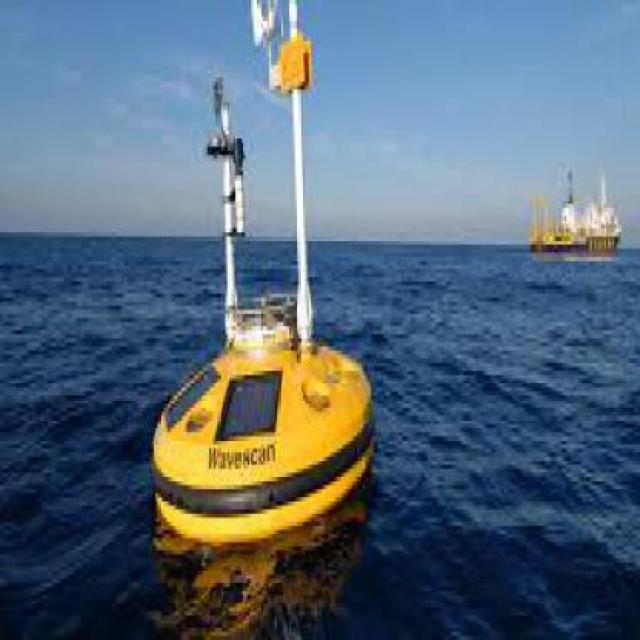buoy: (160, 1, 380, 552)
